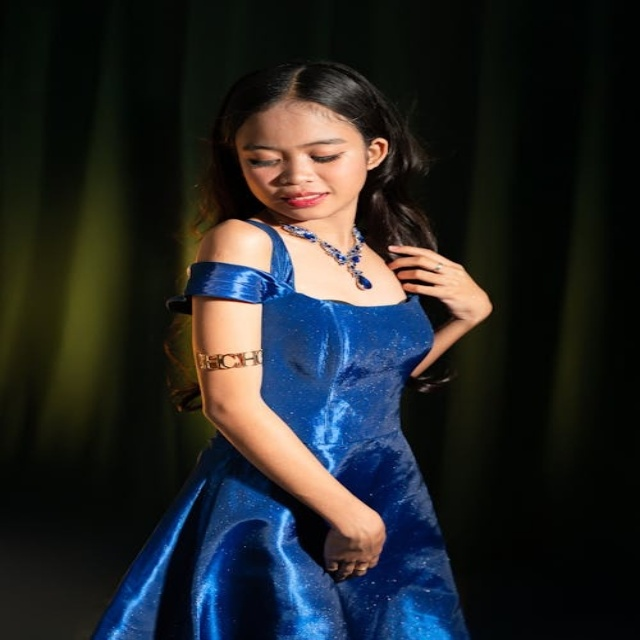Sin_gafas: (241, 136, 349, 171)
Sin_guantes: (383, 237, 500, 327), (311, 505, 390, 585)
Sin_mascara: (269, 184, 342, 212)
